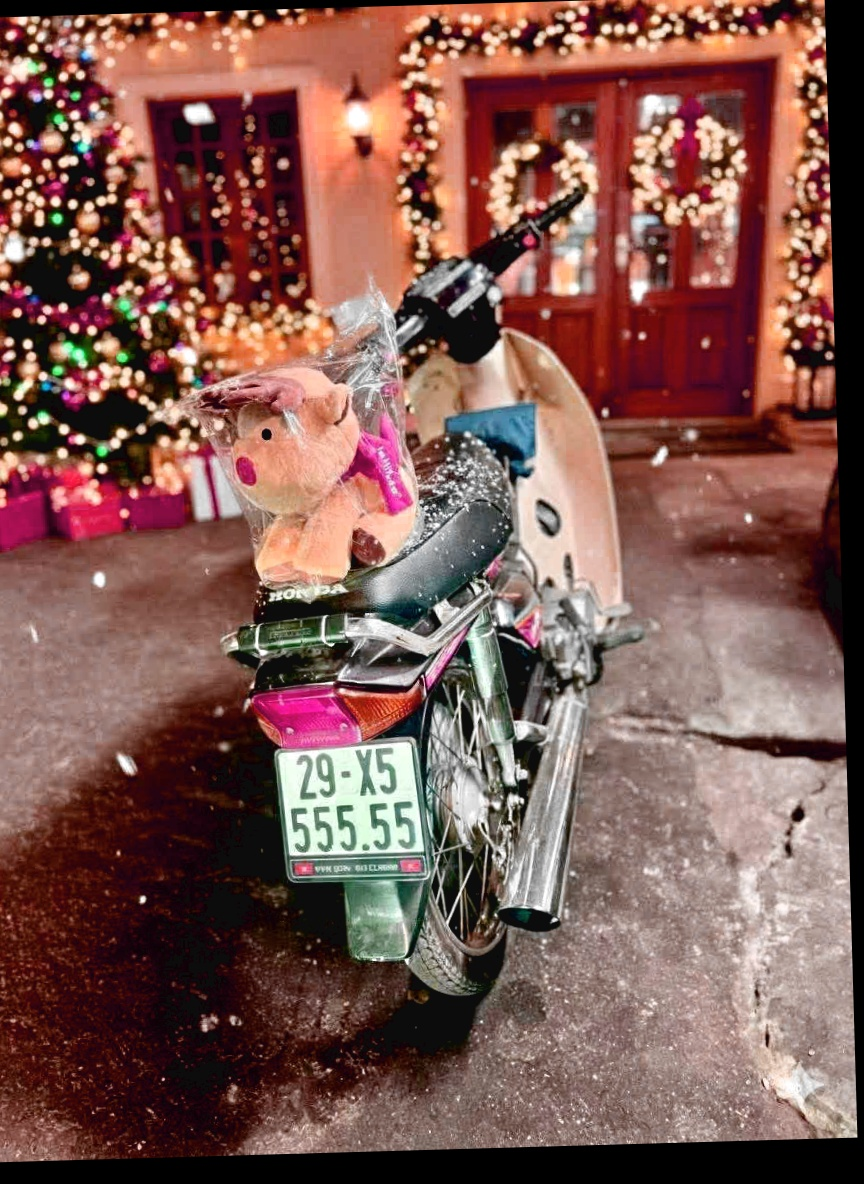Bien-so: (313, 730, 484, 868)
